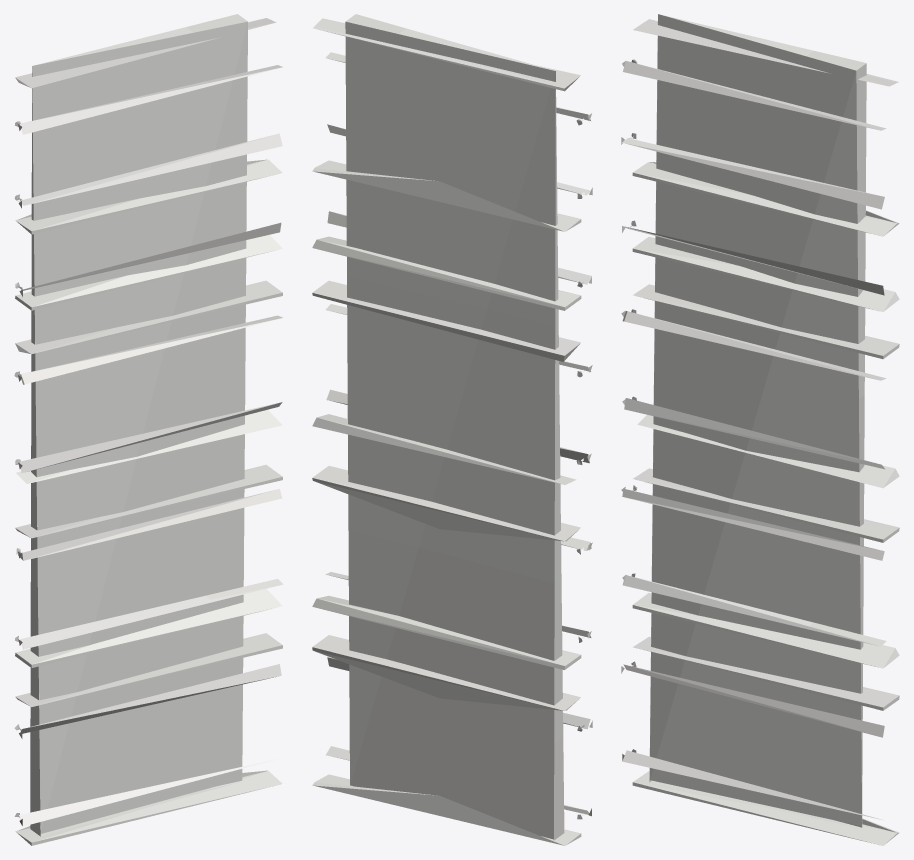
The model's file is srqdz005-geode.glb.
3 renders of one model, left to right at view 1: azimuth 30°, elevation 25°; view 2: azimuth 150°, elevation 25°; view 3: azimuth 330°, elevation 25°, orthographic.
Parts seen in each view (by area): view 1: Node; view 2: Node; view 3: Node.
Part boxes in pixels (left/top/right/bottom): Node: left=14, top=14, right=283, bottom=845; Node: left=312, top=14, right=592, bottom=845; Node: left=621, top=14, right=899, bottom=845.
Size of the model in its own units: 1.71 by 4.8 by 0.2063.
1 material, 1 textured.
